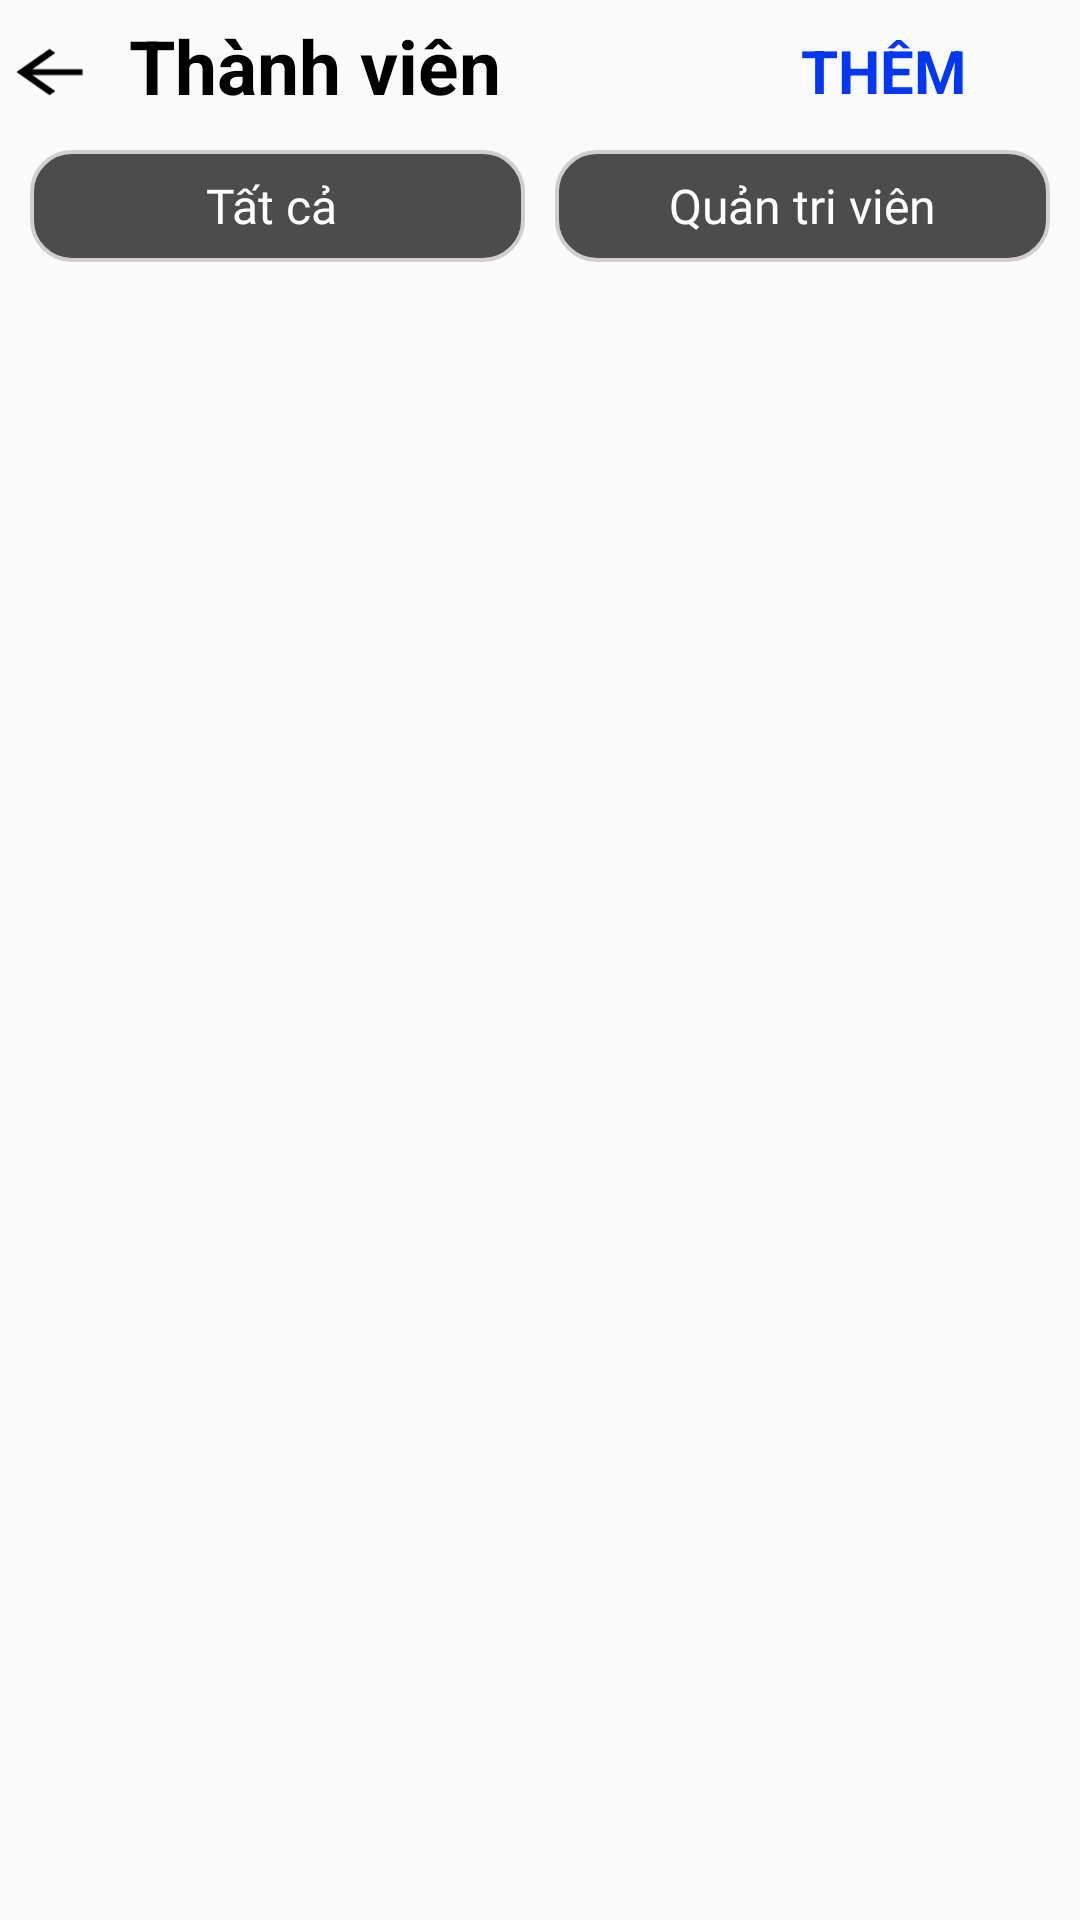

Point at icon controls on the screen. Image size 1080×1920, points as (x,y).
arrow back: (50,72)
